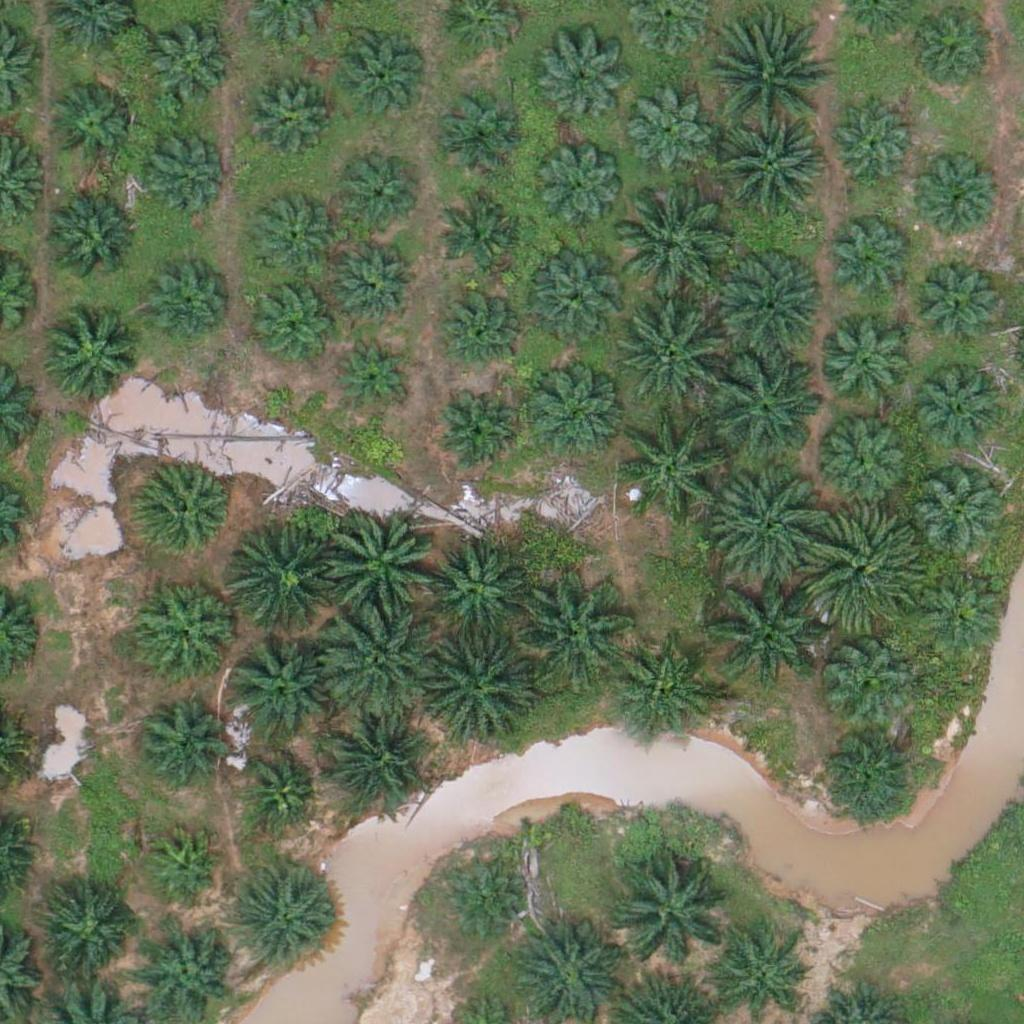Kelapa_Sawit: (418, 631, 531, 745), (707, 246, 820, 360), (615, 849, 728, 962), (806, 510, 919, 623), (714, 23, 827, 136), (711, 344, 824, 457), (225, 527, 338, 640), (718, 471, 830, 585), (707, 573, 819, 686), (518, 573, 630, 686), (326, 606, 438, 719), (712, 116, 824, 229), (619, 410, 731, 523), (619, 301, 731, 414), (615, 189, 727, 302), (325, 510, 437, 623), (226, 636, 326, 737), (907, 363, 1007, 464), (524, 256, 624, 357), (425, 537, 525, 638), (40, 192, 140, 293), (41, 308, 141, 409), (817, 725, 917, 825), (614, 646, 714, 746), (324, 711, 424, 811), (234, 871, 334, 971), (137, 579, 237, 679), (817, 409, 917, 509), (821, 313, 921, 413), (523, 362, 623, 462), (135, 464, 235, 564), (821, 632, 909, 720), (437, 858, 525, 946), (134, 696, 222, 784), (45, 891, 133, 979), (904, 6, 992, 94), (918, 567, 1006, 655), (827, 216, 915, 304), (536, 42, 624, 130), (536, 143, 624, 231), (143, 23, 231, 111), (136, 125, 224, 213), (238, 73, 326, 161), (336, 28, 424, 116), (435, 391, 523, 479), (826, 102, 913, 190), (915, 159, 1002, 247), (916, 475, 1003, 563), (911, 254, 998, 342), (143, 260, 230, 348), (253, 277, 340, 365), (249, 192, 336, 280), (334, 153, 421, 241), (335, 237, 422, 325), (433, 281, 520, 369), (441, 184, 528, 272), (433, 87, 520, 175), (625, 88, 712, 176), (48, 78, 135, 166), (336, 334, 411, 410), (146, 827, 221, 903), (241, 753, 316, 828)
